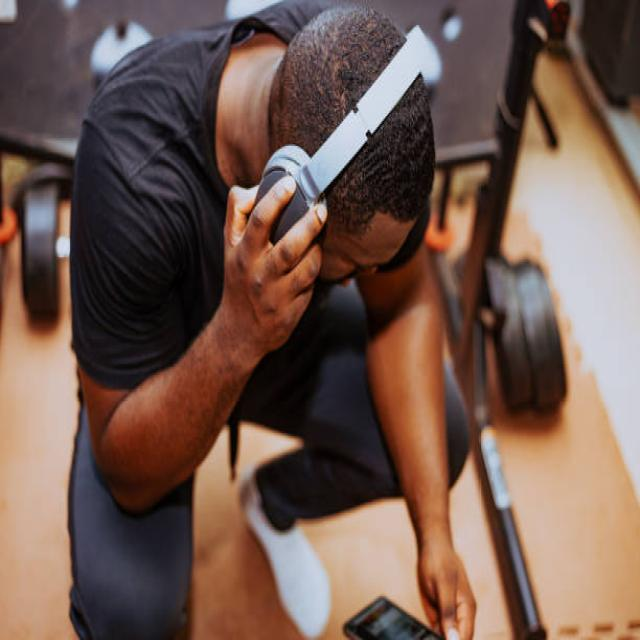Headphone: (255, 23, 426, 249)
